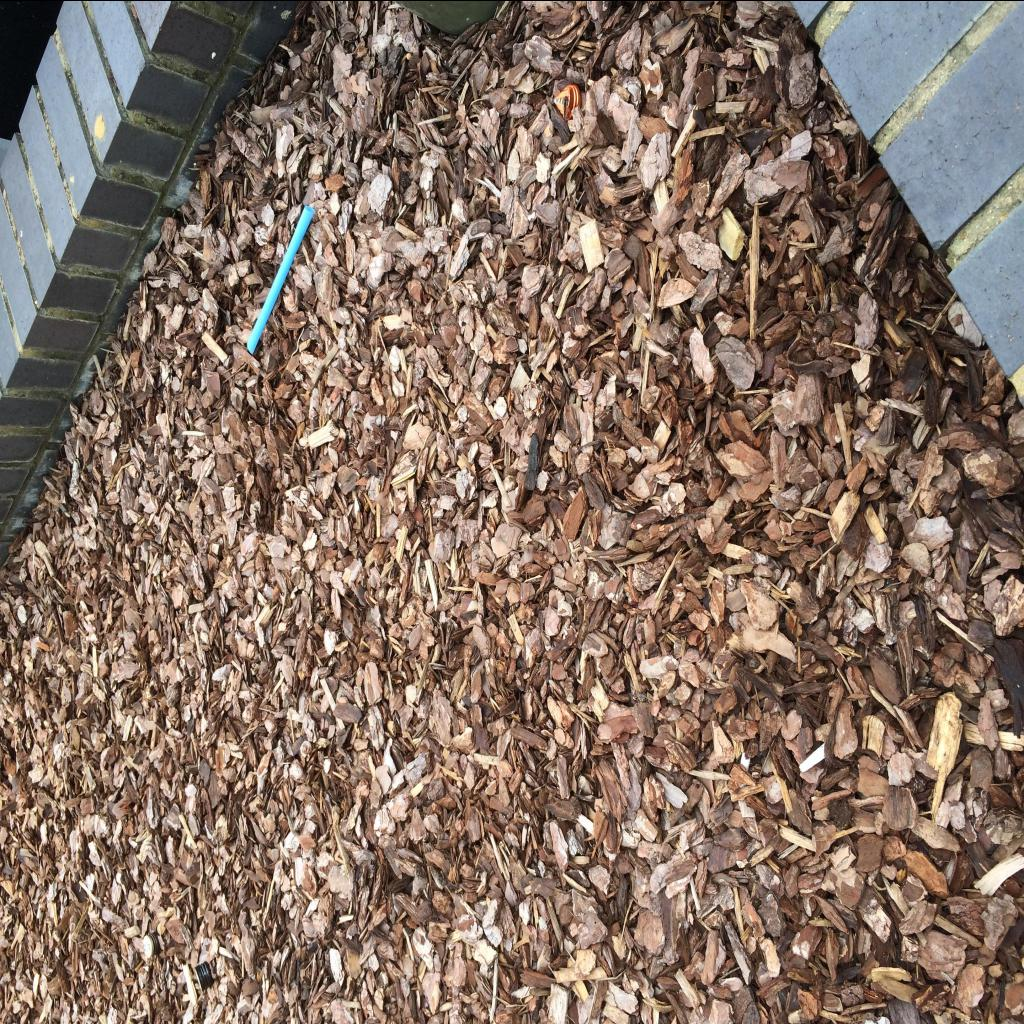Metal bottle cap: (195, 960, 213, 990), (144, 932, 158, 956)
Plastic straw: (248, 205, 314, 353)
